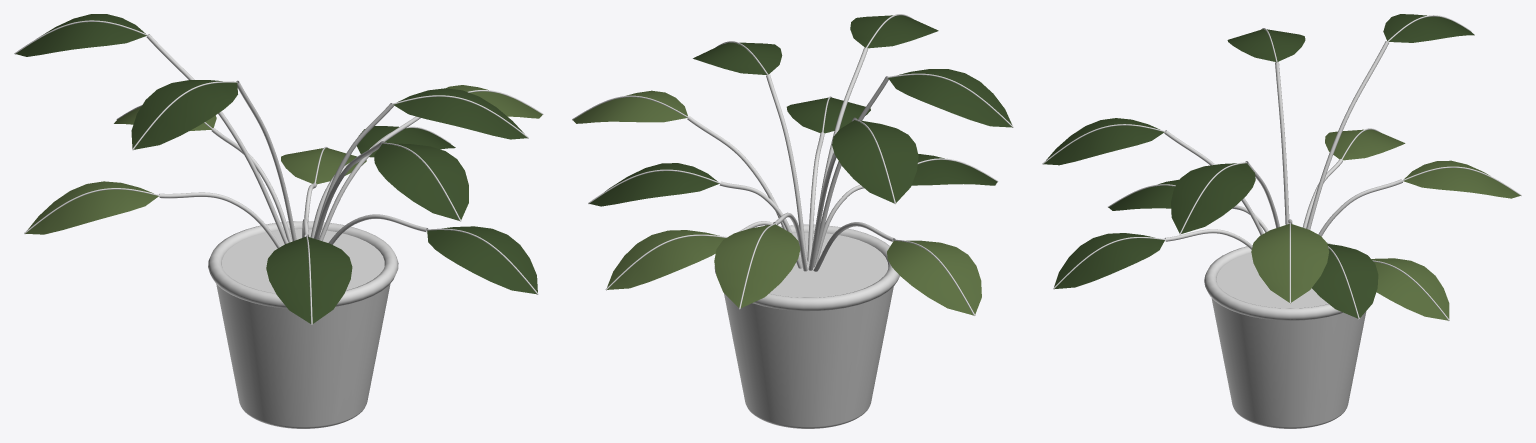
Rendered from plant-7676da7c.glb.
3 views of the same model, side by side, from view 1: azimuth 30°, elevation 25°; view 2: azimuth 150°, elevation 25°; view 3: azimuth 270°, elevation 25° (orthographic). The views are drawn at different scales.
Parts seen in each view (by area): view 1: Inspect · Planter · tapered earthenware, Inspect · Plant · curved living leaf.007, Inspect · Plant · curved living leaf.002, Inspect · Plant · curved living leaf.004, Inspect · Plant · curved living leaf.010, Inspect · Planter · rolled rim, Inspect · Plant · curved living leaf.009, Inspect · Plant · curved living leaf.005, Inspect · Plant · curved living leaf.001, Inspect · Plant · curved living leaf.003, Inspect · Plant · curved living leaf.008, Inspect · Plant · curved living leaf (+8 smaller); view 2: Inspect · Planter · tapered earthenware, Inspect · Plant · curved living leaf.006, Inspect · Plant · curved living leaf.001, Inspect · Plant · curved living leaf.009, Inspect · Plant · curved living leaf.004, Inspect · Plant · curved living leaf.003, Inspect · Plant · curved living leaf.008, Inspect · Planter · rolled rim, Inspect · Plant · curved living leaf, Inspect · Plant · curved living leaf.005, Inspect · Plant · curved living leaf.002, Inspect · Plant · curved living leaf.010 (+9 smaller); view 3: Inspect · Planter · tapered earthenware, Inspect · Plant · curved living leaf, Inspect · Plant · curved living leaf.005, Inspect · Plant · curved living leaf.010, Inspect · Plant · curved living leaf.008, Inspect · Plant · curved living leaf.003, Inspect · Plant · curved living leaf.002, Inspect · Plant · curved living leaf.006, Inspect · Planter · rolled rim, Inspect · Plant · curved living leaf.001, Inspect · Plant · curved living leaf.004, Inspect · Plant · curved living leaf.009 (+5 smaller).
Boxes of the visible parts, x1,y1,x2,y2 form: Inspect · Planter · tapered earthenware: (216,229,390,428); Inspect · Plant · curved living leaf.007: (266,237,352,324); Inspect · Plant · curved living leaf.002: (374,143,468,220); Inspect · Plant · curved living leaf.004: (131,80,237,149); Inspect · Plant · curved living leaf.010: (427,226,537,294); Inspect · Planter · rolled rim: (208,221,398,308); Inspect · Plant · curved living leaf.009: (25,181,158,234); Inspect · Plant · curved living leaf.005: (393,88,527,139); Inspect · Plant · curved living leaf.001: (16,14,146,56); Inspect · Plant · curved living leaf.003: (281,148,366,184); Inspect · Plant · curved living leaf.008: (357,126,455,157); Inspect · Plant · curved living leaf: (446,85,542,118); Inspect · Planter · tapered earthenware: (724,232,893,428); Inspect · Plant · curved living leaf.006: (714,224,800,307); Inspect · Plant · curved living leaf.001: (832,120,918,203); Inspect · Plant · curved living leaf.009: (887,240,981,315); Inspect · Plant · curved living leaf.004: (888,69,1012,127); Inspect · Plant · curved living leaf.003: (607,230,725,289); Inspect · Plant · curved living leaf.008: (589,163,719,206); Inspect · Planter · rolled rim: (714,224,899,311); Inspect · Plant · curved living leaf: (573,90,687,123); Inspect · Plant · curved living leaf.005: (693,42,782,74); Inspect · Plant · curved living leaf.002: (850,15,938,48); Inspect · Plant · curved living leaf.010: (786,97,870,133); Inspect · Planter · tapered earthenware: (1211,253,1366,428); Inspect · Plant · curved living leaf: (1251,224,1329,303); Inspect · Plant · curved living leaf.005: (1171,163,1255,233); Inspect · Plant · curved living leaf.010: (1054,233,1164,289); Inspect · Plant · curved living leaf.008: (1312,243,1378,318); Inspect · Plant · curved living leaf.003: (1371,258,1449,320); Inspect · Plant · curved living leaf.002: (1043,118,1164,165); Inspect · Plant · curved living leaf.006: (1403,160,1520,198); Inspect · Planter · rolled rim: (1204,245,1342,320); Inspect · Plant · curved living leaf.001: (1383,14,1474,42); Inspect · Plant · curved living leaf.004: (1227,29,1305,62); Inspect · Plant · curved living leaf.009: (1325,129,1405,160).
Size of the model in its own units: 0.7562 by 0.5651 by 0.7481.
